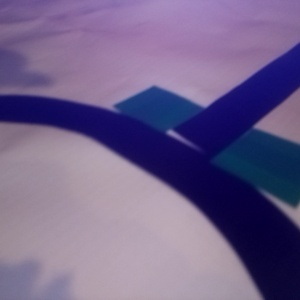bottom_right: (95, 218, 300, 300), (144, 51, 250, 95)
top_left: (104, 26, 188, 62)
